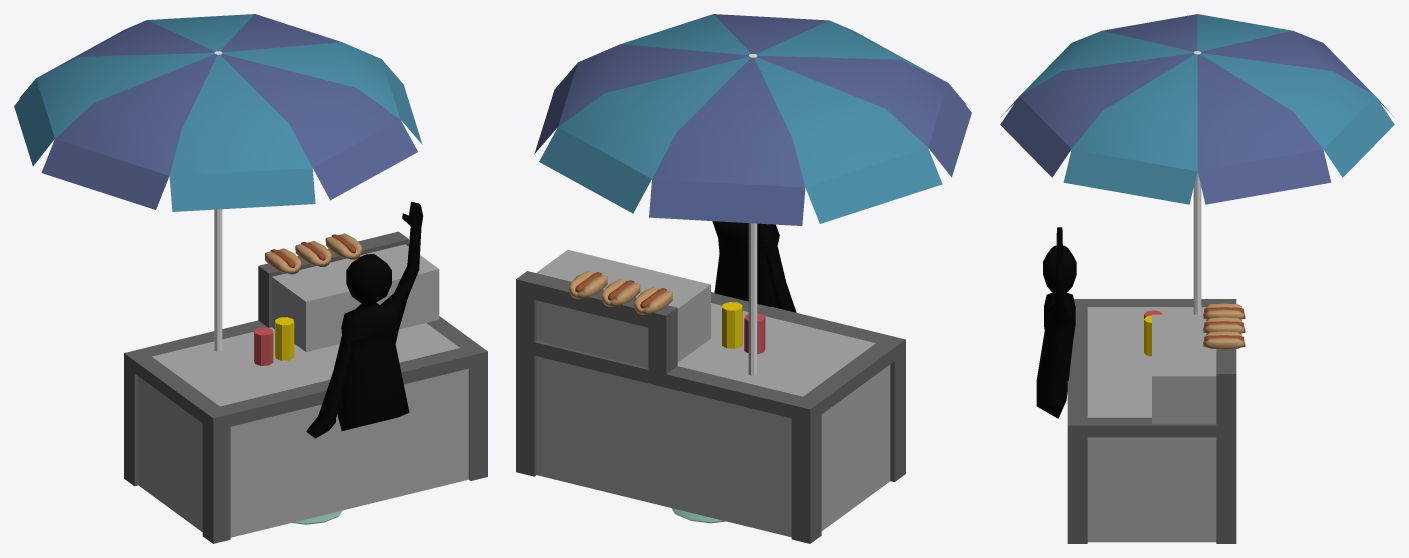
File: hotdog stand.fbx
3 views of the same model, side by side, from view 1: azimuth 30°, elevation 25°; view 2: azimuth 150°, elevation 25°; view 3: azimuth 270°, elevation 25° (orthographic). The views are drawn at different scales.
Visible parts, largest first — view 1: hotdog_stand, bun (×3); view 2: hotdog_stand, bun (×3); view 3: hotdog_stand, bun (×3).
Part boxes in pixels (x1,y1,x2,y2): hotdog_stand: (14,14,487,543); bun (×3): (265,233,361,274); hotdog_stand: (516,14,971,543); bun (×3): (569,271,672,314); hotdog_stand: (1000,14,1394,543); bun (×3): (1202,303,1245,349).
Size of the model in its own units: 503 by 572 by 477.
